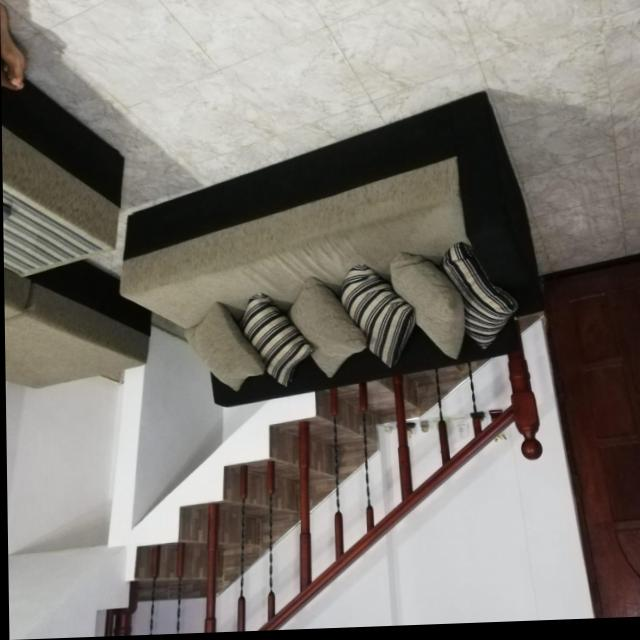Sofa: (118, 94, 556, 411)
